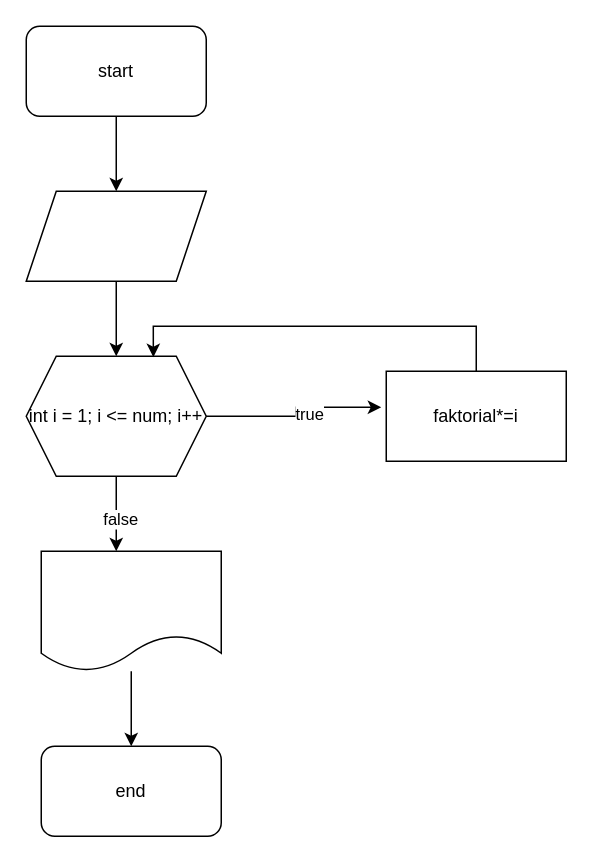
The diagram is 593 pixels wide and 863 high, and some of its shapes have lost their labels. The shapes that lost their labels are listed below. From the top down, each one's box as (x1, y1, x2, y2) in pixels, then its label:
(25, 190, 206, 281): int num int faktorial=1
(40, 550, 221, 671): faktorial
